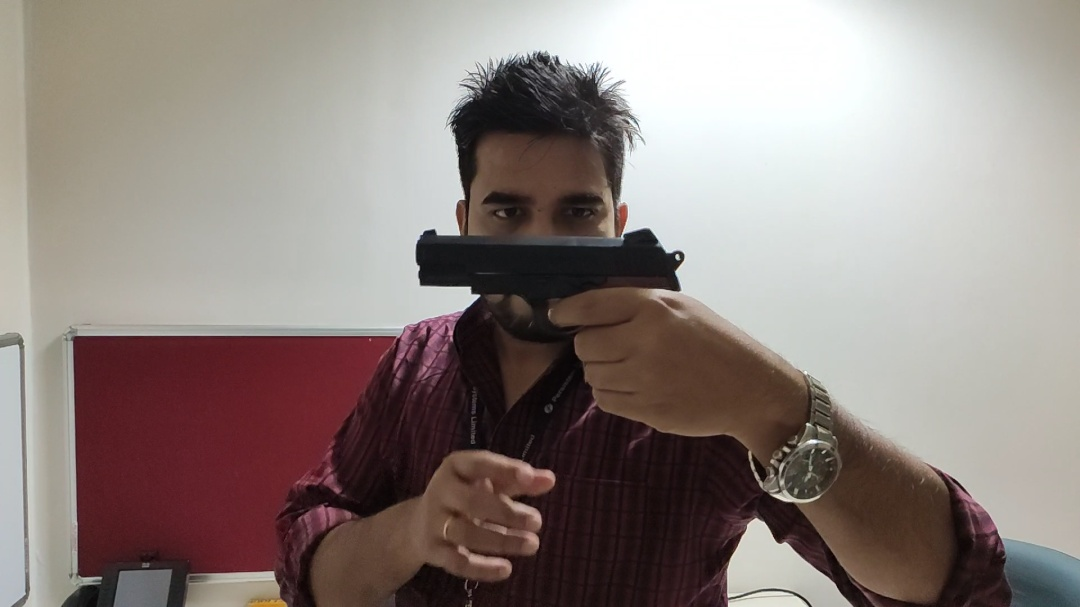gun: (413, 223, 684, 420)
